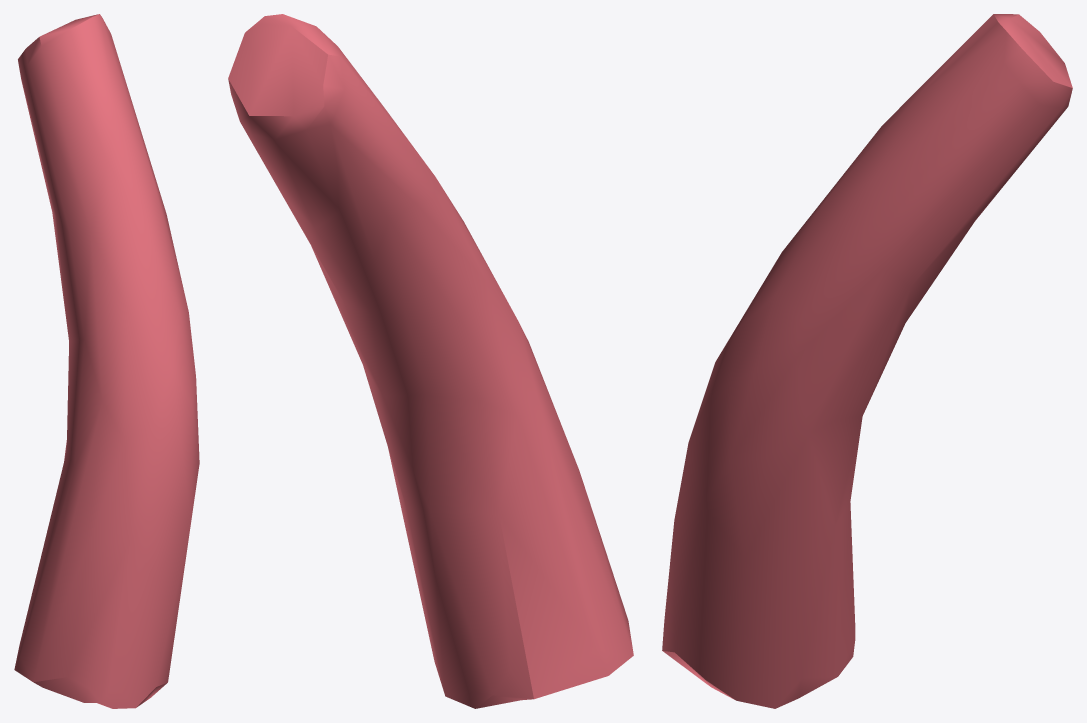
The model's file is fma68665_fj3000.glb.
3 renders of one model, left to right at view 1: azimuth 30°, elevation 25°; view 2: azimuth 150°, elevation 25°; view 3: azimuth 270°, elevation 25°, orthographic. The views are drawn at different scales.
Parts seen in each view (by area): view 1: FMA68665_FJ3000; view 2: FMA68665_FJ3000; view 3: FMA68665_FJ3000.
Part boxes in pixels (x1,y1,x2,y2): FMA68665_FJ3000: (14,14,199,708); FMA68665_FJ3000: (228,14,633,708); FMA68665_FJ3000: (662,14,1072,708).
Size of the model in its own units: 0.00312 by 0.00897 by 0.00471.
